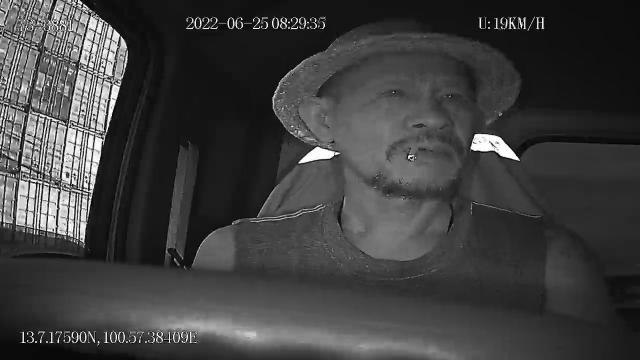SafeDriving: (376, 79, 414, 106), (434, 86, 465, 106)
Smoking: (407, 144, 421, 162)
